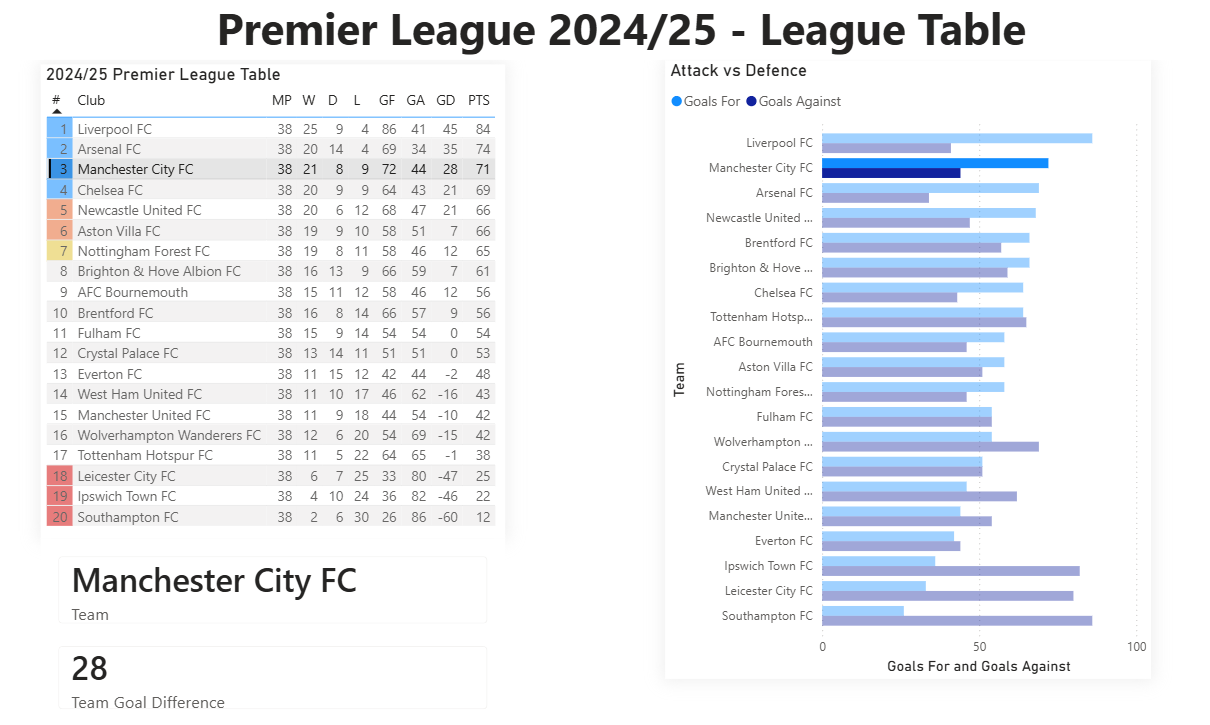

The dashboard page shown, as its layout file describes it:
{"tool":"powerbi","page":{"name":"2 - League Table","canvas":[1280,720],"ordinal":1},"visuals":[{"type":"tableEx","title":"2024/25 Premier League Table","fields":{"Values":["Sum(standings.position)","standings.team","Sum(standings.played)","Sum(standings.won)","Sum(standings.drawn)","Sum(standings.lost)","Sum(standings.goals_for)","Sum(standings.goals_against)","Sum(standings.goal_difference)","Sum(standings.points)"]},"box":[72.1,70.6,454.1,464.2],"z":0},{"type":"clusteredBarChart","title":"Attack vs Defence","fields":{"Category":["standings.team"],"Y":["Sum(standings.goals_for)","Sum(standings.goals_against)"]},"box":[683.3,66.3,475.7,605.5],"z":1000},{"type":"cardVisual","fields":{"Data":["Sum(standings.goal_difference)"]},"box":[72.1,622.8,454.1,96.6],"z":2000},{"type":"cardVisual","fields":{"Data":["Min(standings.team)"]},"box":[72.1,534.9,454.1,100.9],"z":3000},{"type":"textbox","box":[0,0,1280.2,66.4],"z":4000}]}

Visuals, with their boxes on the page's 1280x720 design canvas (x1, y1, x2, y2). These are canvas units, not pixel positions in the 1210x725 screenshot, which may show the page scaled, cropped or inside an application window:
"2024/25 Premier League Table" tableEx: 72 71 526 535
"Attack vs Defence" clusteredBarChart: 683 66 1159 672
cardVisual - Sum(standings.goal_difference): 72 623 526 719
cardVisual - Min(standings.team): 72 535 526 636
textbox: 0 0 1280 66
